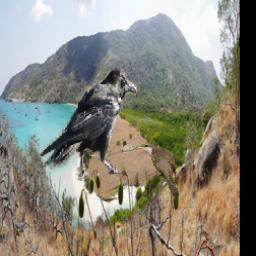Crow: (40, 67, 138, 182)
Cuckoo: (134, 143, 179, 196)
